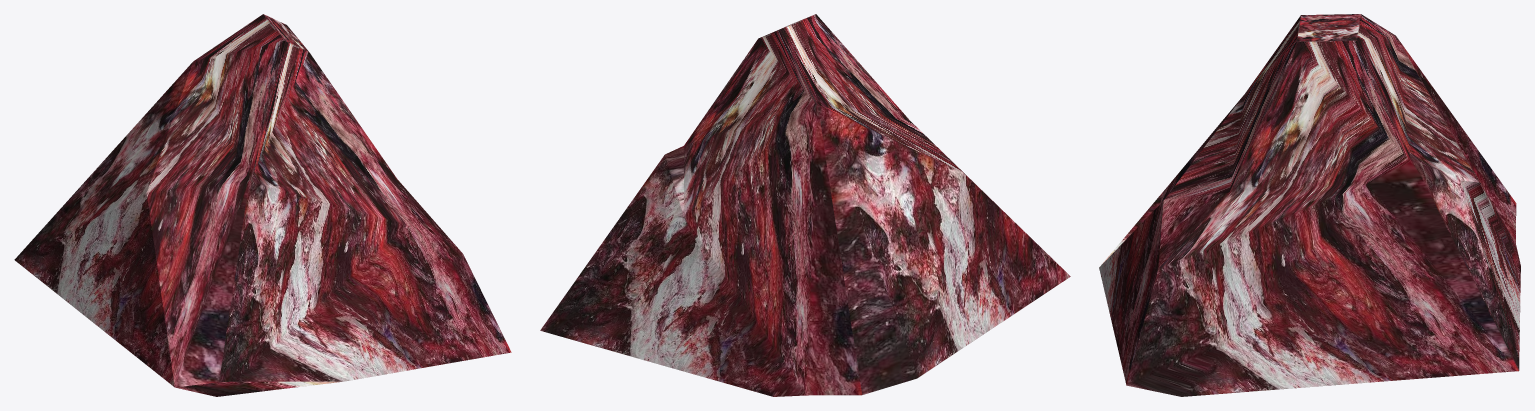
The picture shows the model from 3 angles, left to right: view 1: azimuth 30°, elevation 25°; view 2: azimuth 150°, elevation 25°; view 3: azimuth 270°, elevation 25°; orthographic projection. The views are drawn at different scales.
Visible parts, largest first — view 1: 金字塔; view 2: 金字塔; view 3: 金字塔.
Boxes of the visible parts, x1=… form: 金字塔: x1=14, y1=14, x2=511, y2=396; 金字塔: x1=540, y1=14, x2=1070, y2=396; 金字塔: x1=1099, y1=14, x2=1520, y2=396.
Size of the model in its own units: 1.33 by 1.1 by 1.36.
1 material, 1 textured.
